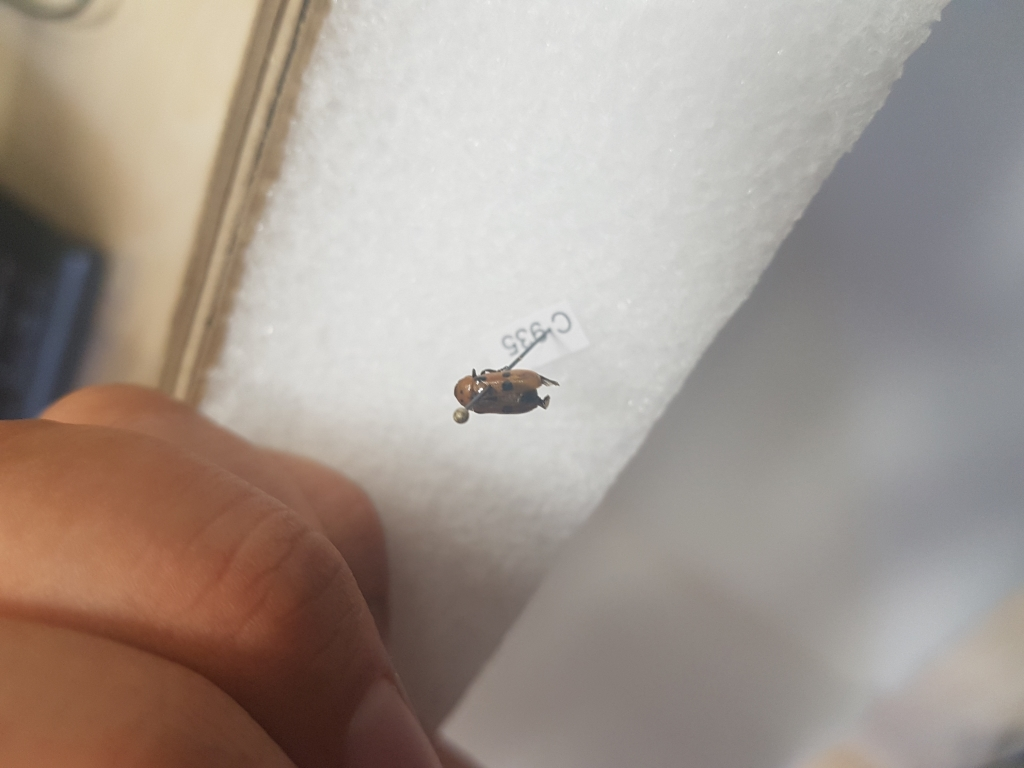Clytra_novempunctata: (450, 362, 559, 418)
